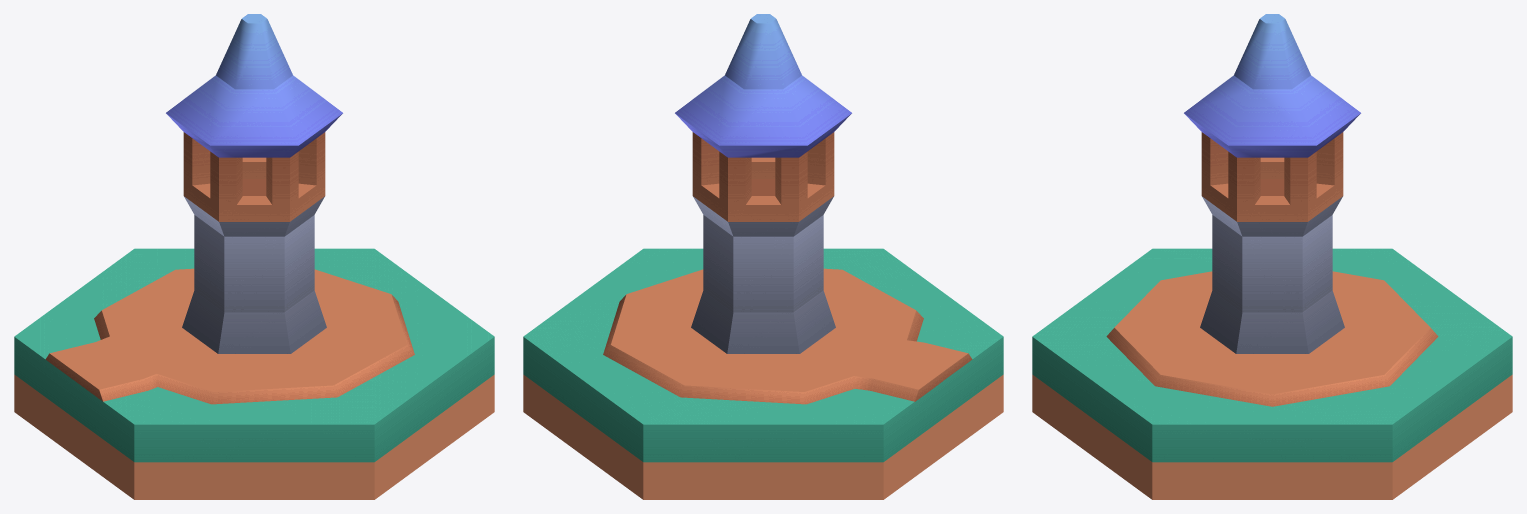
Rendered from grass-path-tower end.glb.
3 renders of one model, left to right at view 1: azimuth 30°, elevation 25°; view 2: azimuth 150°, elevation 25°; view 3: azimuth 270°, elevation 25°, orthographic.
Parts seen in each view (by area): view 1: grass, unit-tower, path-square-end; view 2: grass, unit-tower, path-square-end; view 3: grass, unit-tower, path-square-end.
Boxes of the visible parts, box(x1,y1,x2,y2) form: grass: box(14, 248, 494, 499); unit-tower: box(166, 14, 342, 353); path-square-end: box(45, 268, 414, 404); grass: box(523, 248, 1003, 499); unit-tower: box(675, 14, 851, 353); path-square-end: box(603, 268, 972, 404); grass: box(1032, 248, 1512, 499); unit-tower: box(1184, 14, 1360, 353); path-square-end: box(1106, 271, 1438, 406).
Size of the model in its own units: 1 by 1.04 by 1.15.
Materials: 1 (1 with a texture image).
